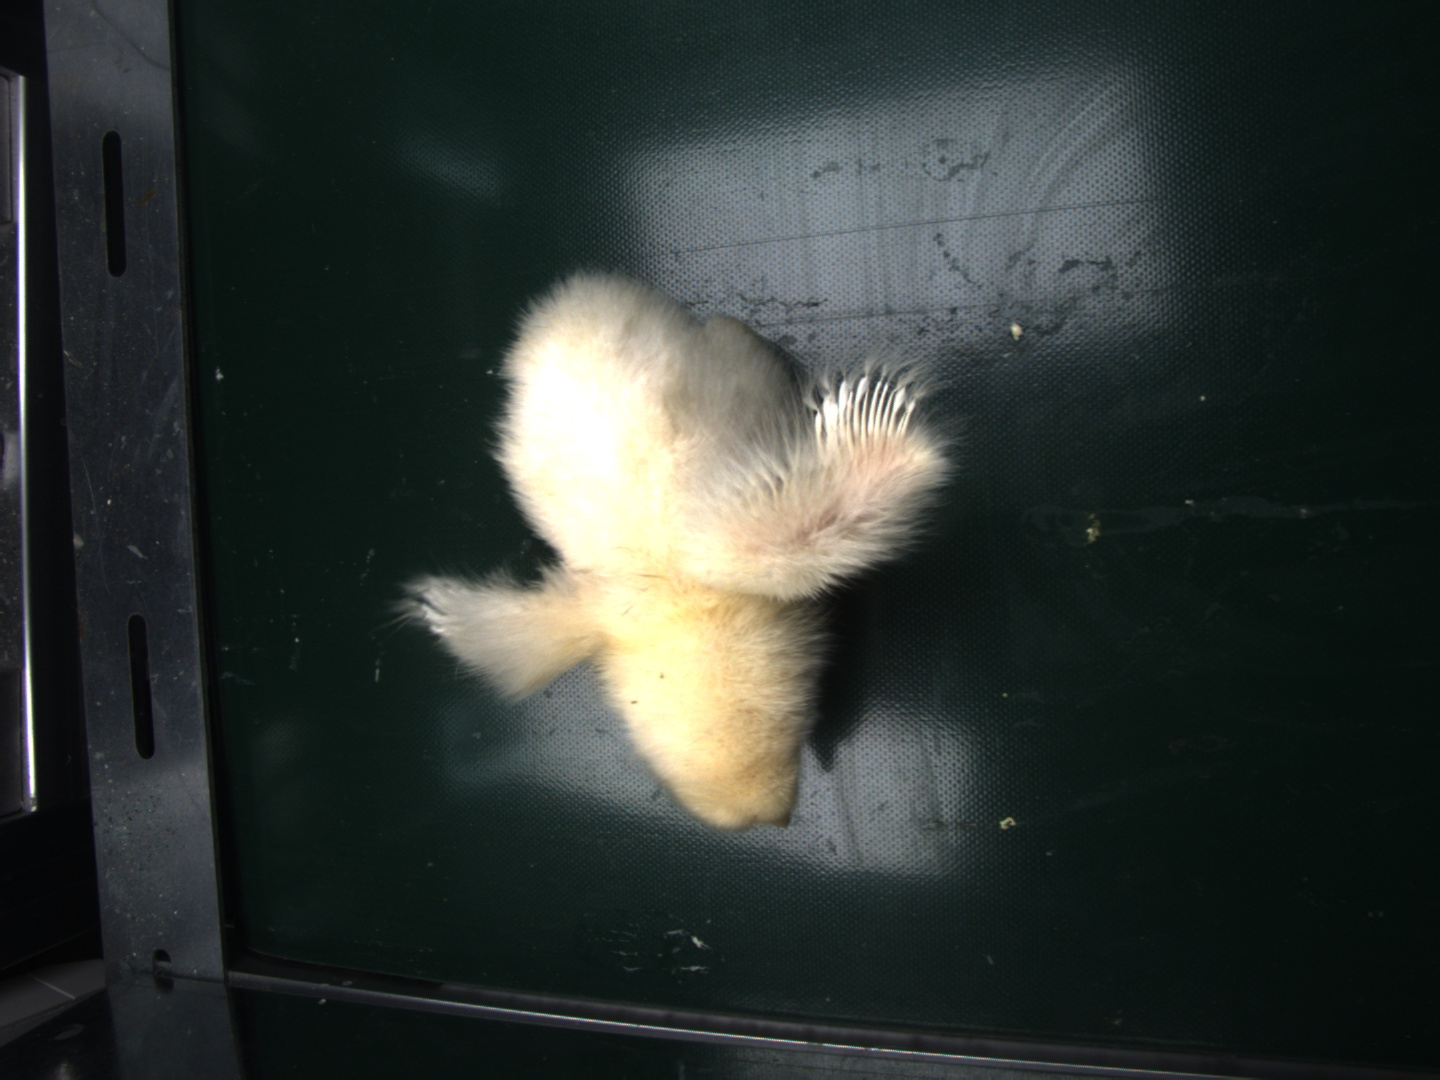male: (812, 376, 924, 444)
